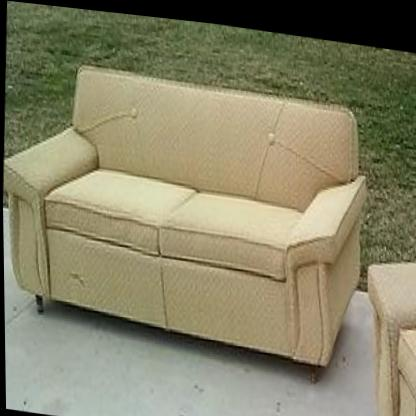Sofa: (1, 49, 369, 382)
